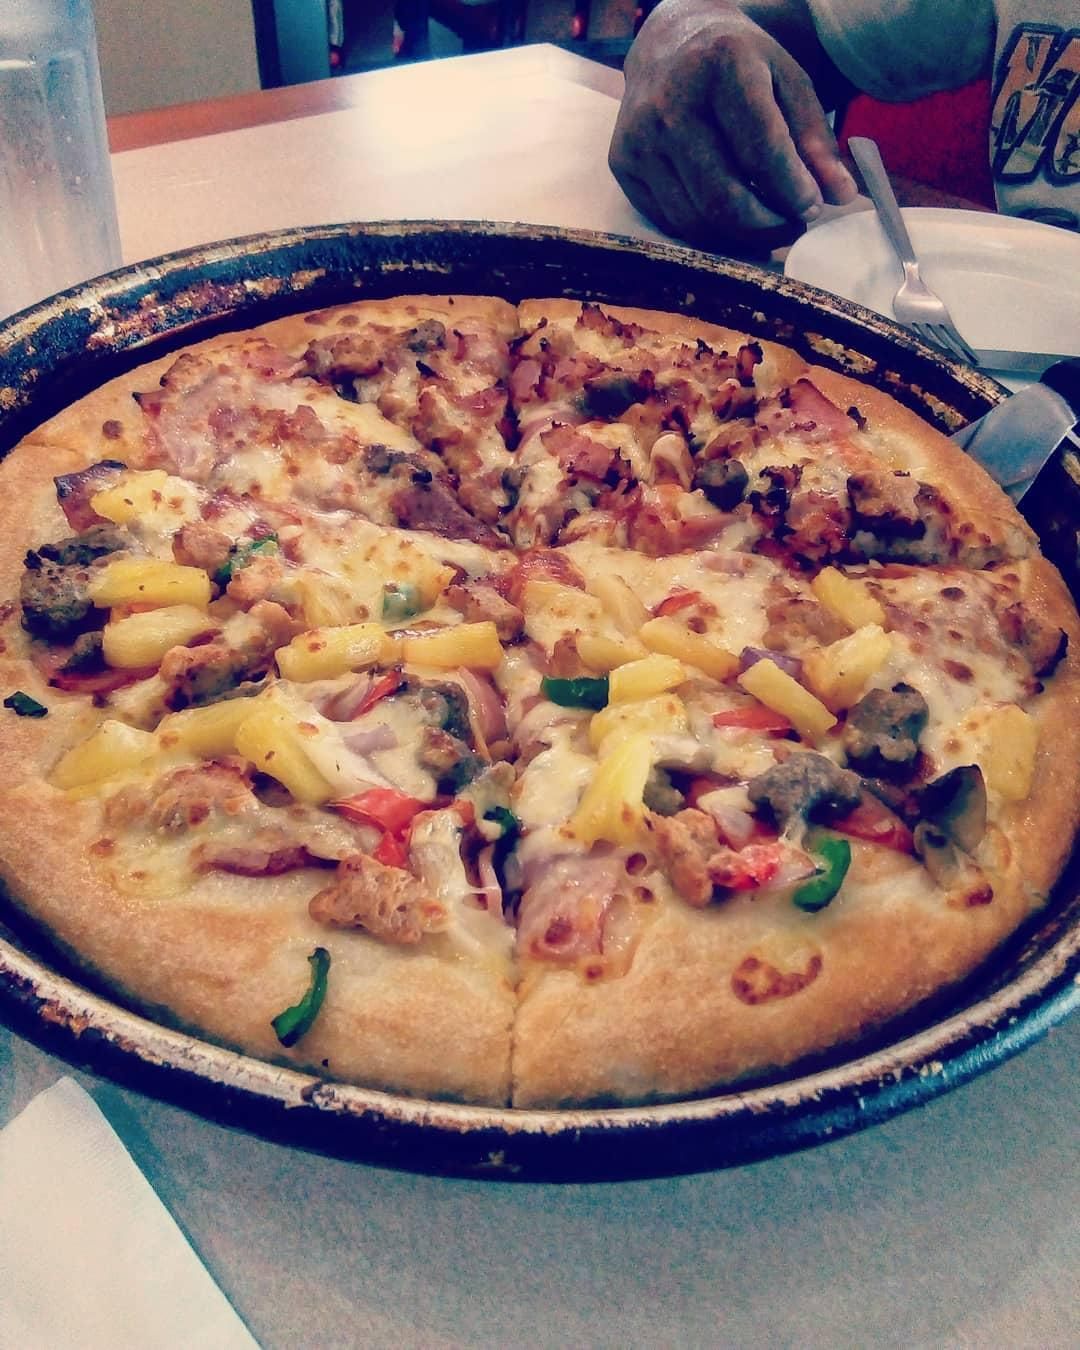Ham: (777, 377, 861, 440), (762, 495, 841, 561), (543, 425, 635, 482), (417, 363, 507, 414), (508, 355, 602, 403), (574, 306, 656, 342), (701, 420, 768, 456), (753, 463, 797, 512), (713, 384, 762, 419), (735, 343, 763, 384)
Peppers: (270, 943, 330, 1047), (336, 780, 424, 835), (792, 838, 853, 910), (318, 669, 409, 714), (540, 670, 608, 710), (714, 703, 793, 733)
Pineapple: (562, 734, 652, 845), (233, 714, 335, 809), (739, 660, 838, 743), (46, 715, 152, 791), (273, 620, 392, 682), (105, 603, 216, 667), (153, 698, 272, 756), (972, 703, 1044, 798), (639, 618, 739, 681), (802, 631, 888, 704), (85, 559, 220, 603), (402, 620, 505, 670), (814, 566, 884, 631), (590, 695, 693, 734), (602, 655, 688, 694)
Pizza: (0, 290, 1080, 1110)
